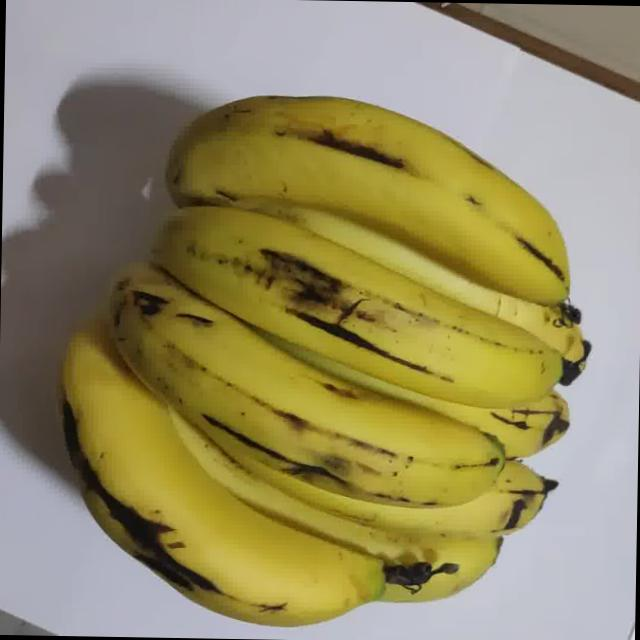banana_pacche: (3, 30, 613, 640)
